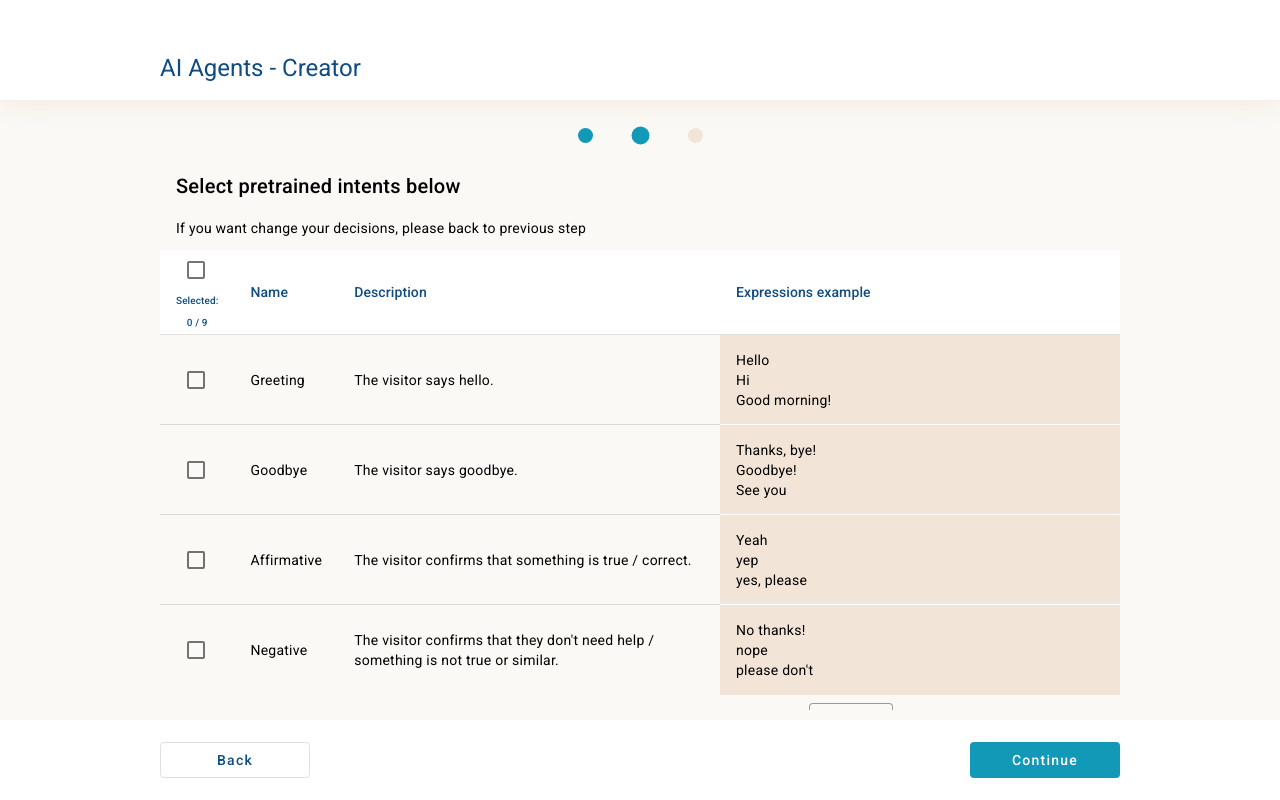
Test: Table with selection checkboxes › should toggle selection of all checkboxes when the "select all" checkbox is clicked
This screenshot has width=1280, height=800.
Click the element with test id "select-all-checkbox": click(196, 270) [187, 261, 205, 279]
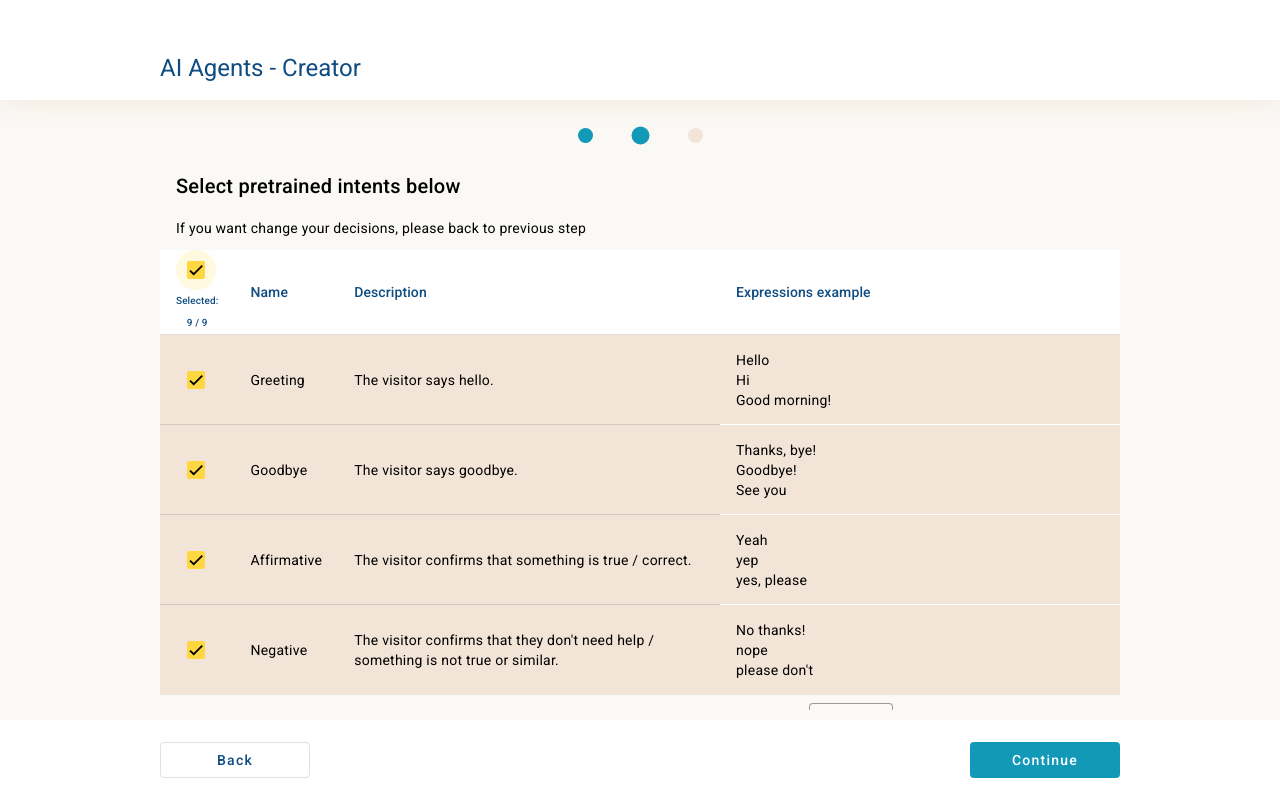
Expected: the text with test id "selected-intents-length" reads "9 / 9", [187, 317, 208, 328]
